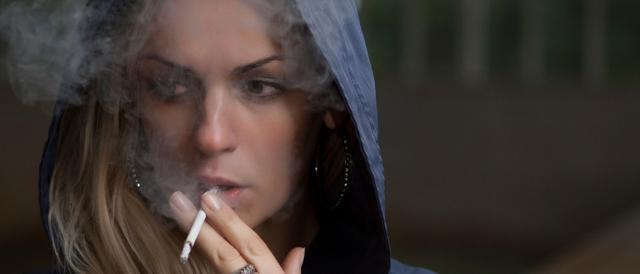SafeDriving: (136, 64, 202, 111), (228, 63, 292, 106)
Smoking: (180, 184, 220, 266)
